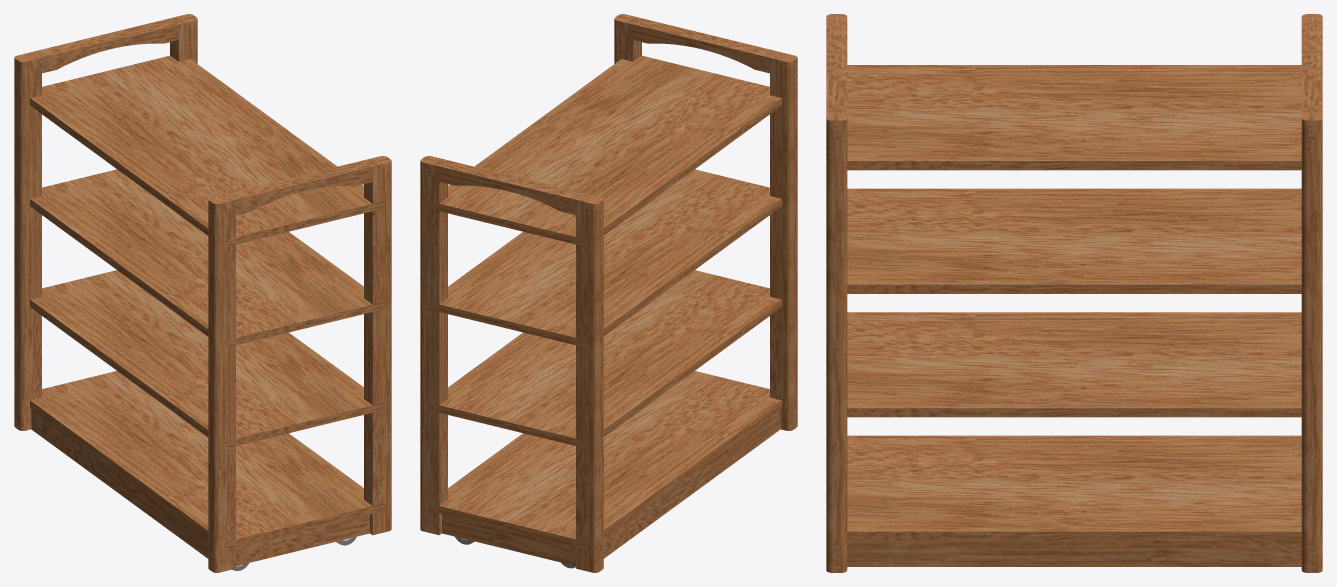
Rendered from zapatero-rosa.glb.
3 renders of one model, left to right at view 1: azimuth 30°, elevation 25°; view 2: azimuth 150°, elevation 25°; view 3: azimuth 270°, elevation 25°, orthographic. The views are drawn at different scales.
Size of the model in its own units: 0.3001 by 0.6117 by 0.59.
Materials: 7 (4 with a texture image).
